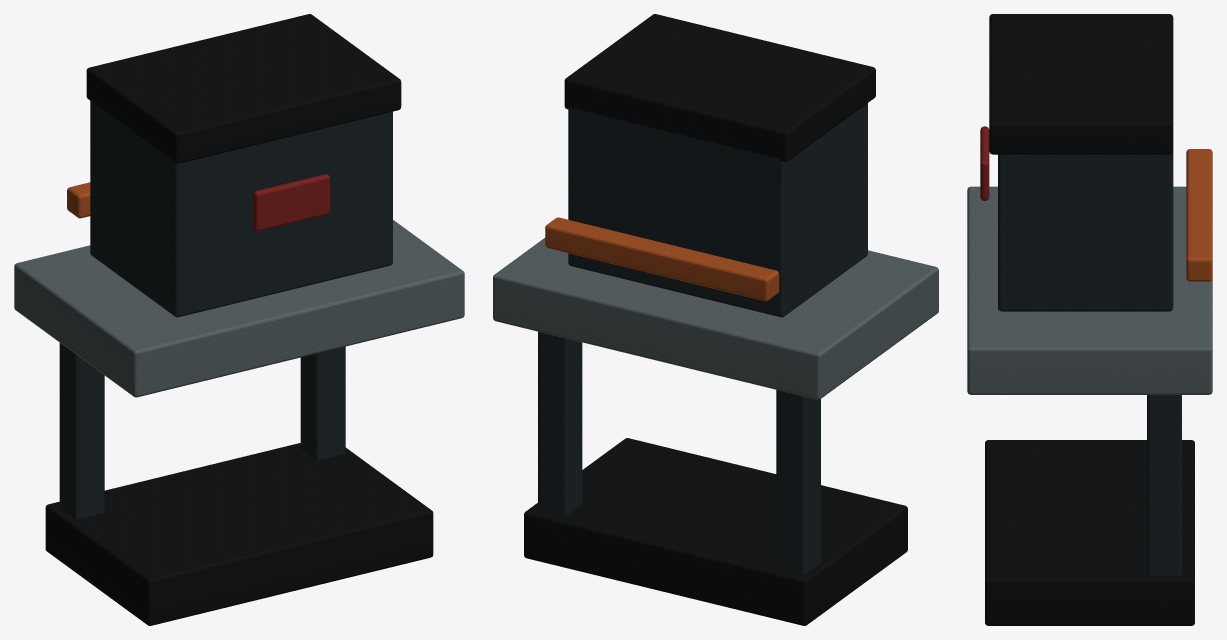
File: MobileEvidenceCart.fbx
3 views of the same model, side by side, from view 1: azimuth 30°, elevation 25°; view 2: azimuth 150°, elevation 25°; view 3: azimuth 270°, elevation 25° (orthographic).
Parts seen in each view (by area): view 1: MobileEvidenceCart_Mesh; view 2: MobileEvidenceCart_Mesh; view 3: MobileEvidenceCart_Mesh.
Boxes of the visible parts, x1,y1,x2,y2 form: MobileEvidenceCart_Mesh: (14,14,464,625); MobileEvidenceCart_Mesh: (493,14,938,625); MobileEvidenceCart_Mesh: (967,14,1212,625).
Size of the model in its own units: 88 by 123 by 56.
Materials: 5 (5 with a texture image).
